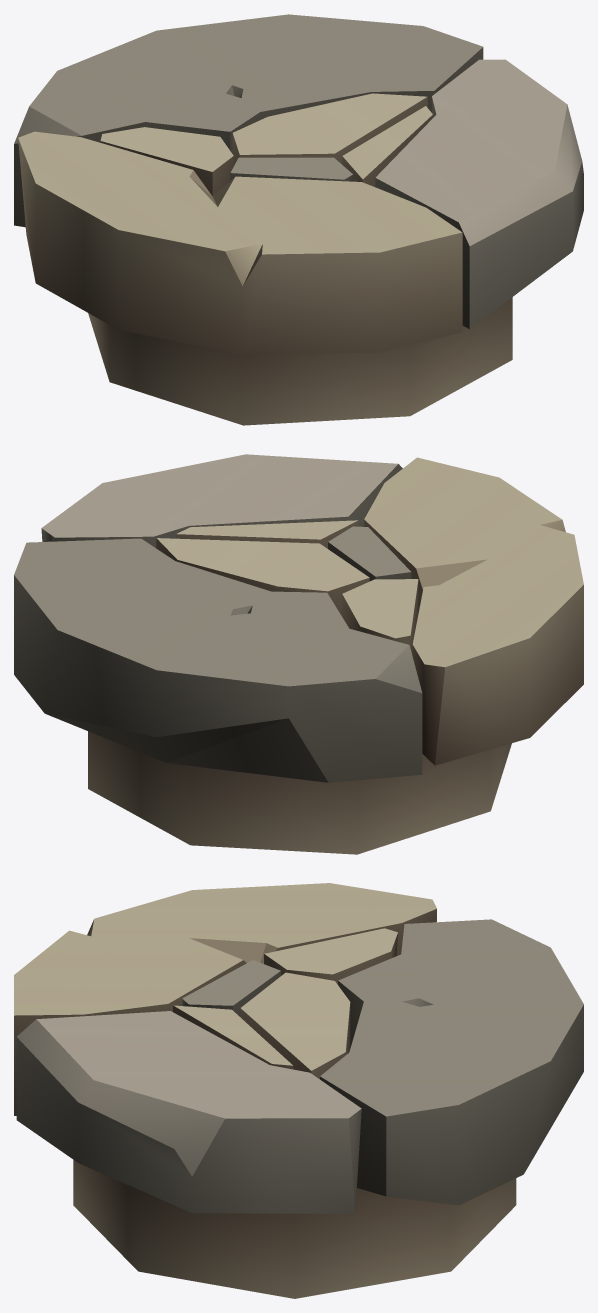
Rendered from Rock_Shrine_1A.fbx.
3 renders of one model, top to bottom at view 1: azimuth 30°, elevation 25°; view 2: azimuth 150°, elevation 25°; view 3: azimuth 270°, elevation 25°, orthographic.
Parts seen in each view (by area): view 1: Rock_Shrine_1A; view 2: Rock_Shrine_1A; view 3: Rock_Shrine_1A.
Boxes of the visible parts, left/top/right/bottom form: Rock_Shrine_1A: left=14, top=14, right=583, bottom=425; Rock_Shrine_1A: left=14, top=454, right=583, bottom=854; Rock_Shrine_1A: left=14, top=883, right=583, bottom=1298.
Bounding box in the file's own units: 2.76 × 1.1 × 2.83.
